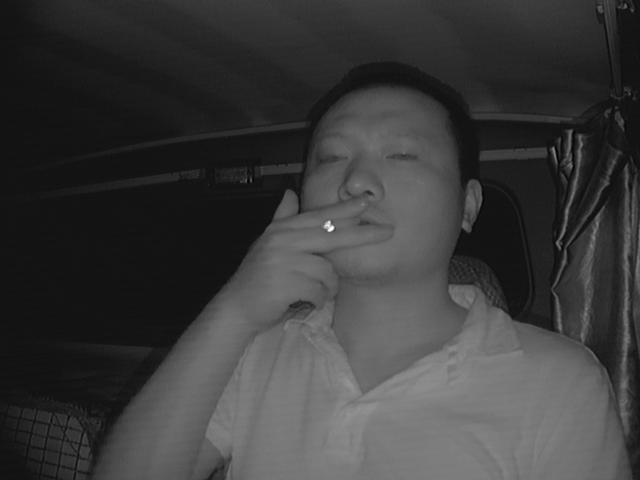hand: (282, 198, 375, 304)
